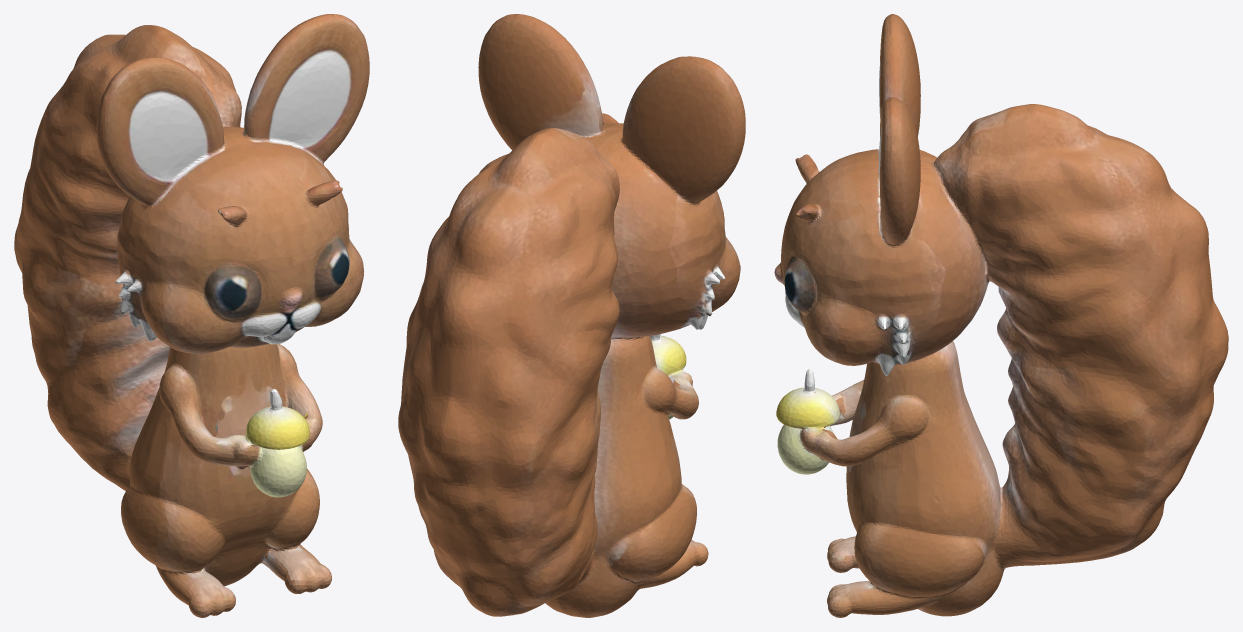
The model's file is creature-010.glb.
The picture shows the model from 3 angles, left to right: view 1: azimuth 30°, elevation 25°; view 2: azimuth 150°, elevation 25°; view 3: azimuth 270°, elevation 25°; orthographic projection. The views are drawn at different scales.
Visible parts, largest first — view 1: tmpbz_c9xf9.ply; view 2: tmpbz_c9xf9.ply; view 3: tmpbz_c9xf9.ply.
Boxes of the visible parts, box(x1,y1,x2,y2) form: tmpbz_c9xf9.ply: box(14, 14, 369, 617); tmpbz_c9xf9.ply: box(398, 14, 745, 617); tmpbz_c9xf9.ply: box(774, 14, 1228, 617).
Bounding box in the file's own units: 0.9908 × 1.99 × 1.49.
Materials: 1 (1 with a texture image).
